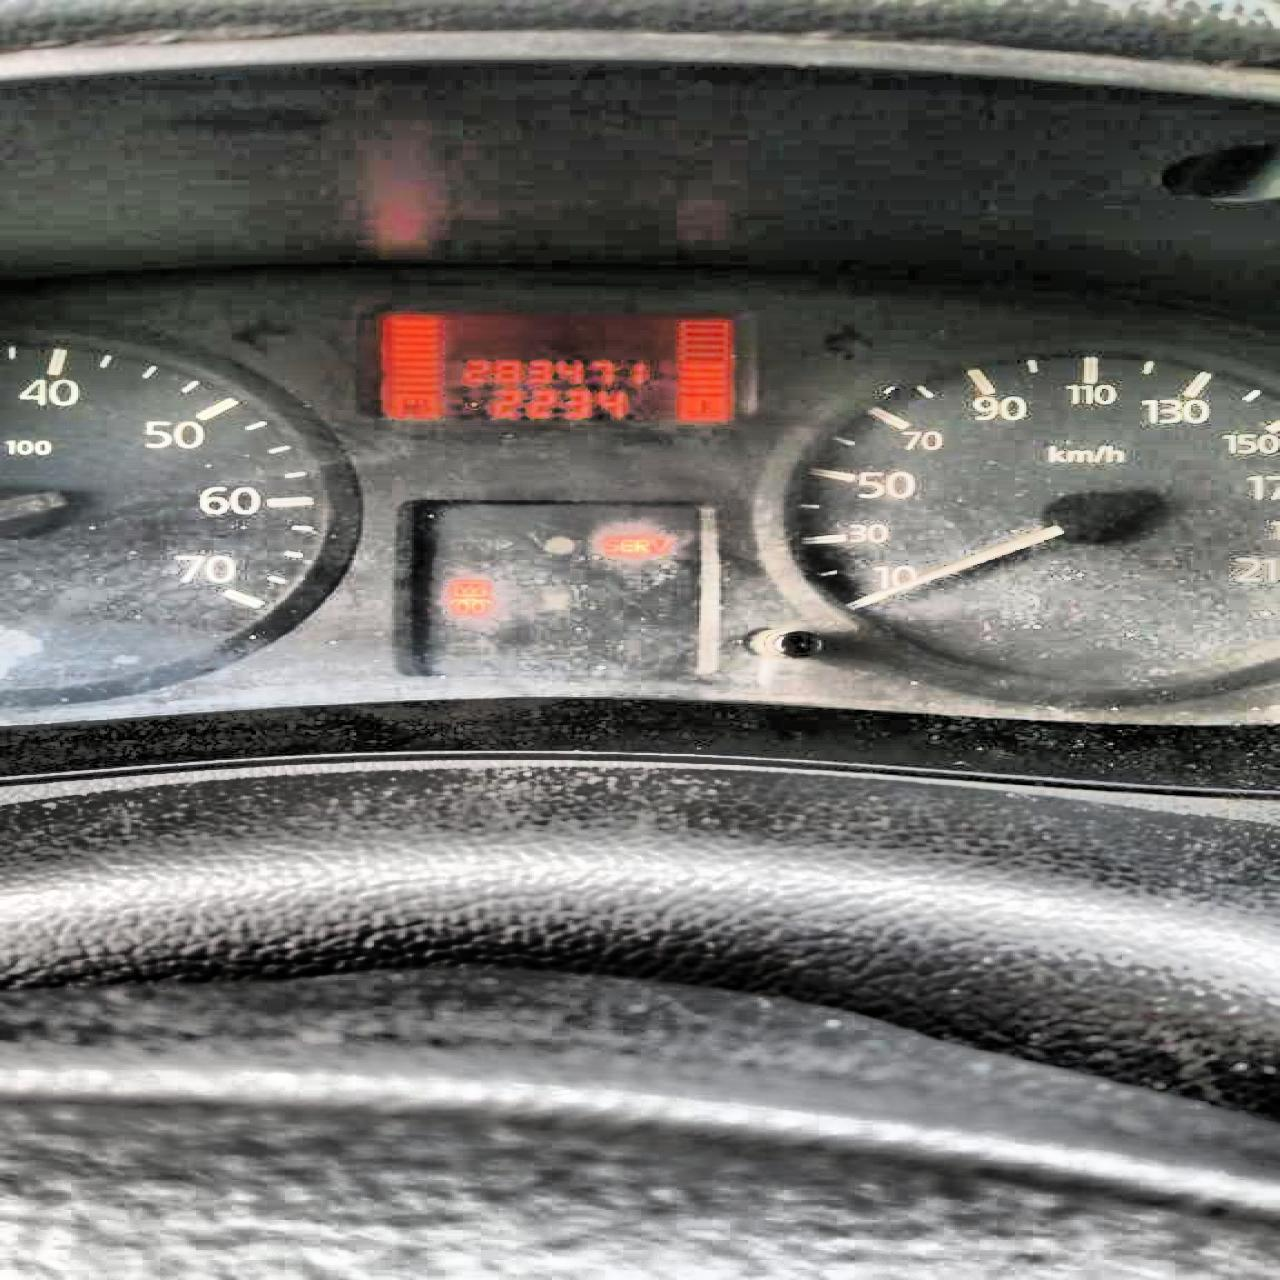1: (629, 361, 648, 383)
2: (527, 388, 557, 417), (492, 388, 520, 417), (463, 359, 488, 382)
3: (561, 388, 590, 417), (525, 359, 550, 382)
4: (597, 390, 626, 418), (554, 359, 584, 382)
7: (590, 360, 619, 384)
8: (492, 359, 520, 382)
odometer: (356, 307, 745, 427)
